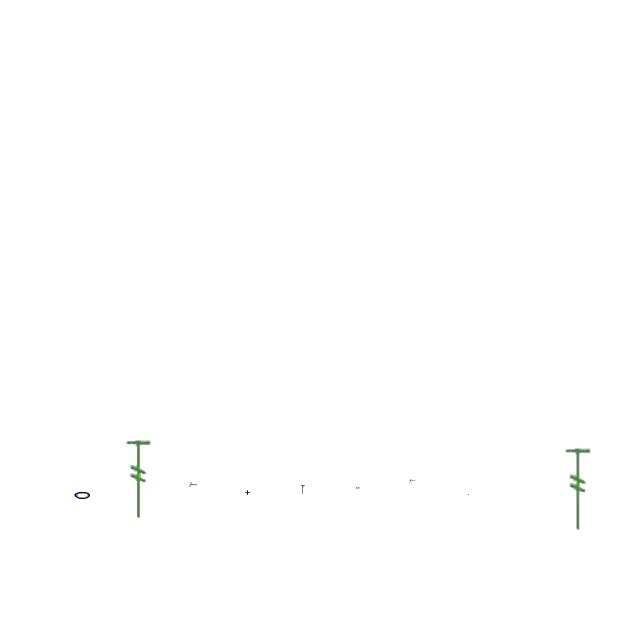chain: (74, 488, 92, 502), (356, 487, 360, 489), (466, 494, 470, 496)
double: (246, 490, 250, 496)
double treble: (301, 486, 305, 494)
enseble_chain: (189, 482, 197, 488), (410, 479, 416, 483)
fan: (564, 448, 592, 532), (124, 440, 152, 520)
